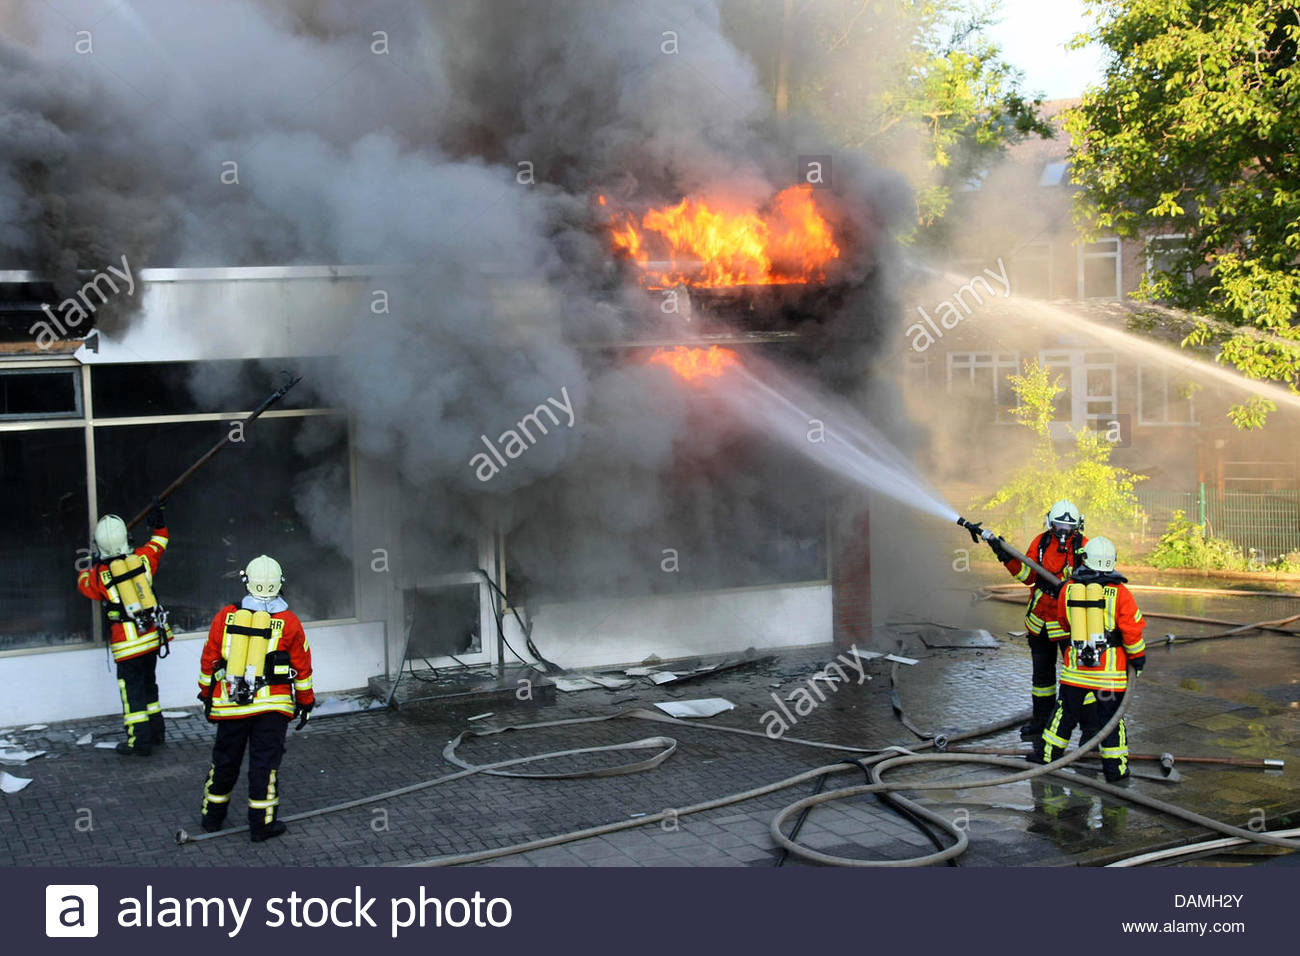fire: (621, 190, 852, 294)
smoke: (23, 14, 597, 262), (336, 273, 647, 579), (600, 12, 819, 186)
